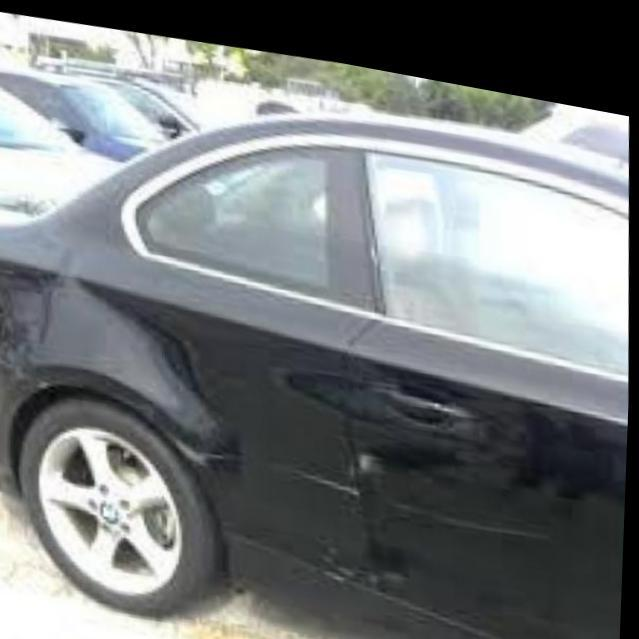crack: (321, 510, 440, 580)
dent: (172, 429, 562, 530)
